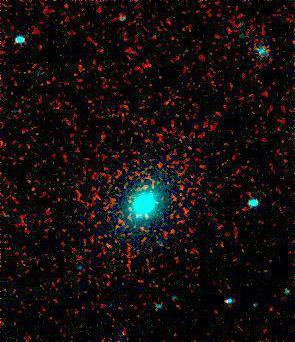star: (129, 173, 159, 203)
